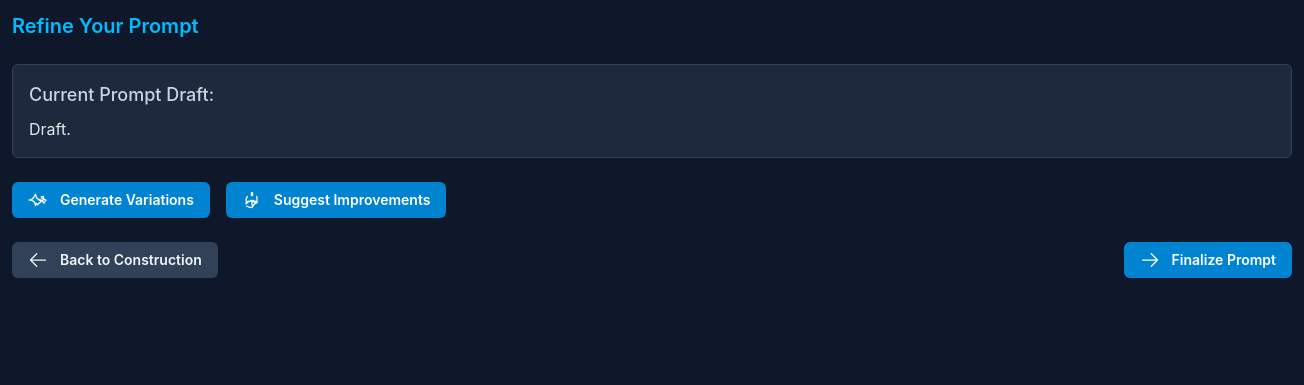
Scenario: AIRefinementStage — improvements › shows an error alert when improvement suggestions fail
This screenshot has width=1304, height=385.
Click the button "Suggest Improvements": (336, 200) [226, 182, 446, 218]
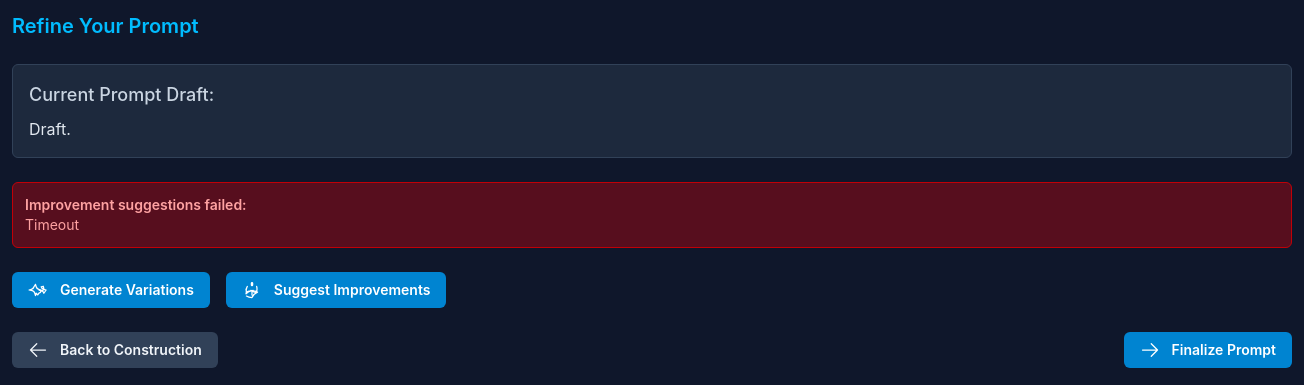
Expected: the message shows "Improvement suggestions failed", [25, 196, 247, 213]
